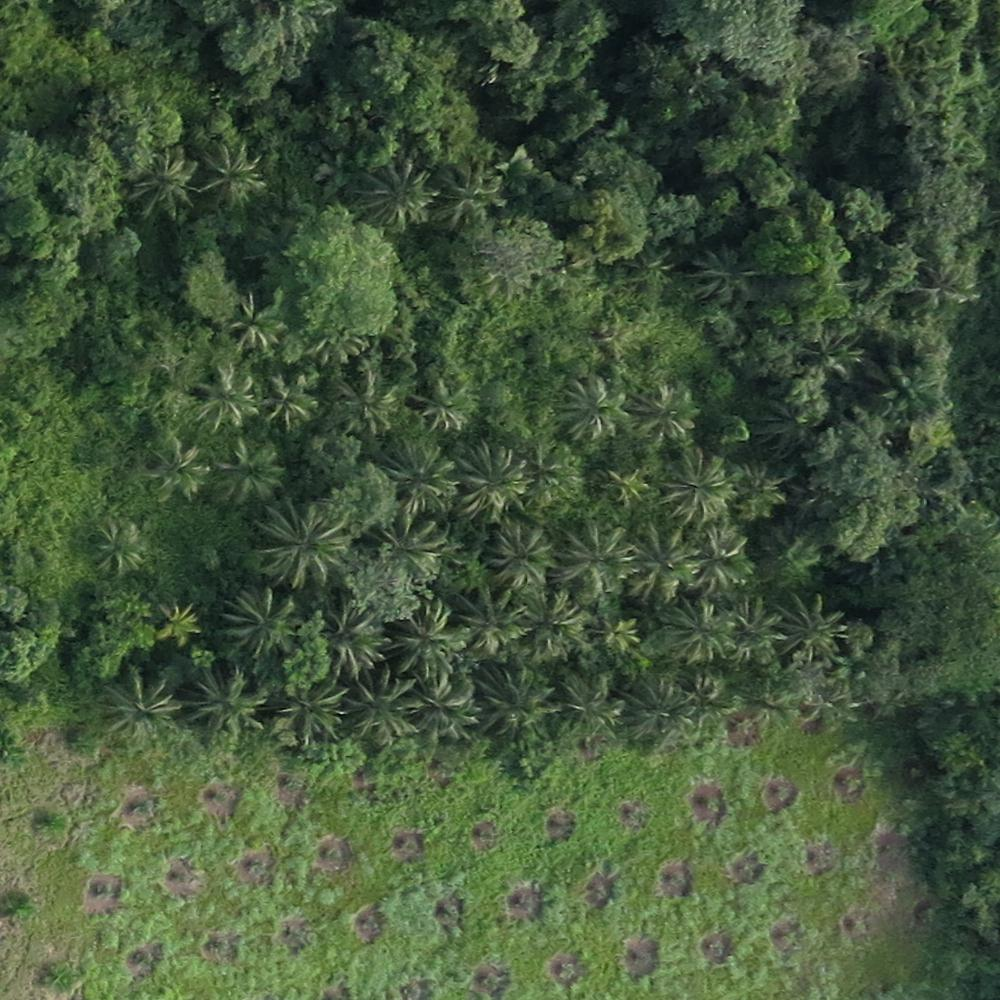Palm: (257, 497, 350, 588), (97, 669, 178, 746), (381, 604, 468, 675), (317, 594, 395, 672), (478, 666, 556, 743), (183, 667, 262, 743), (658, 448, 734, 525), (552, 519, 632, 590), (512, 588, 587, 663), (406, 673, 478, 748), (690, 523, 761, 599), (456, 449, 529, 522), (772, 590, 844, 663), (347, 672, 418, 745), (217, 585, 297, 649), (455, 584, 527, 655), (628, 525, 696, 597), (361, 162, 436, 227), (554, 672, 623, 742), (664, 598, 736, 665), (269, 682, 345, 745), (617, 684, 698, 743), (133, 151, 196, 223), (199, 143, 265, 210), (210, 440, 278, 505), (141, 441, 211, 504), (189, 367, 257, 431), (482, 526, 552, 588), (552, 380, 624, 439), (725, 594, 784, 665), (631, 381, 697, 443), (332, 378, 398, 439), (86, 515, 150, 577), (222, 292, 288, 351), (147, 596, 206, 650), (260, 376, 315, 426)
